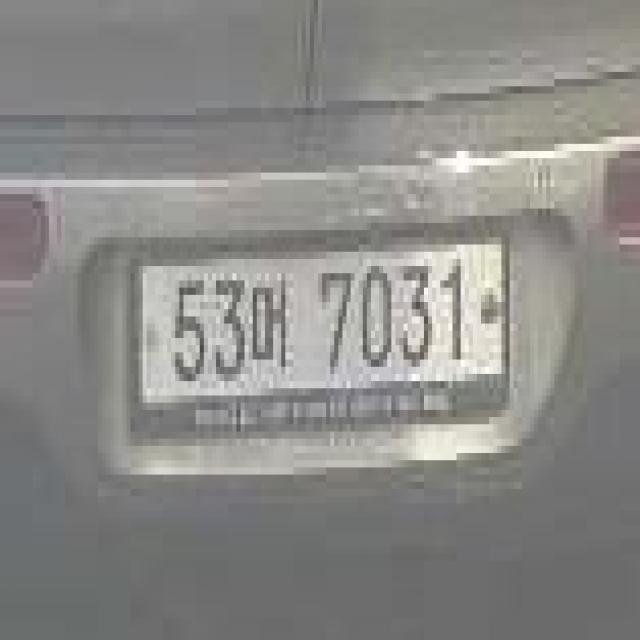0: (350, 252, 396, 374)
1: (436, 252, 477, 366)
3: (204, 266, 253, 388), (400, 266, 436, 374)
5: (171, 274, 208, 396)
7: (318, 259, 355, 388)
license_plate: (118, 230, 518, 439)
meo: (244, 273, 294, 367)
